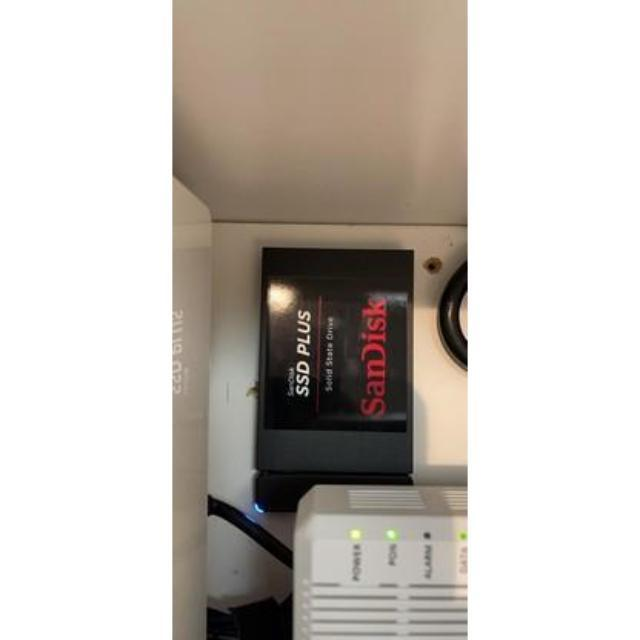DISK: (256, 237, 414, 477)
